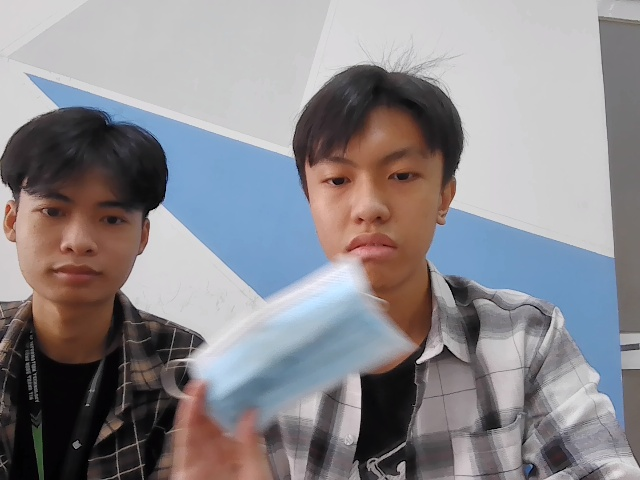human: (294, 58, 463, 289), (1, 105, 173, 306)
mask: (196, 261, 423, 428)
